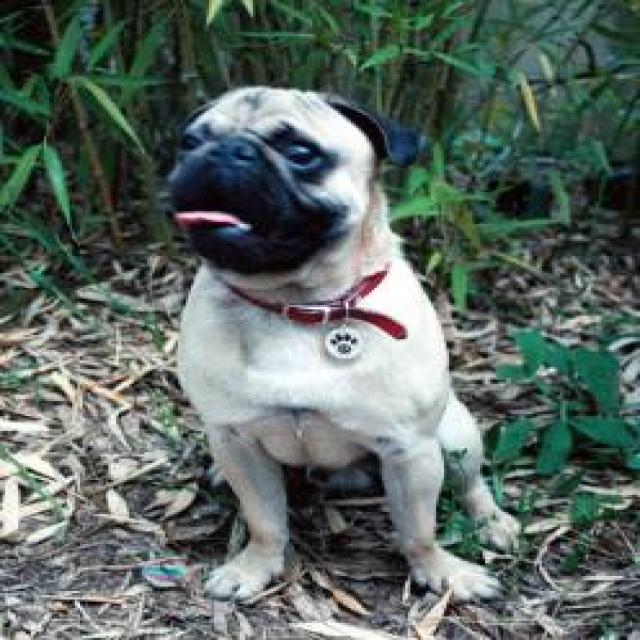dog-pug: (155, 81, 516, 599)
